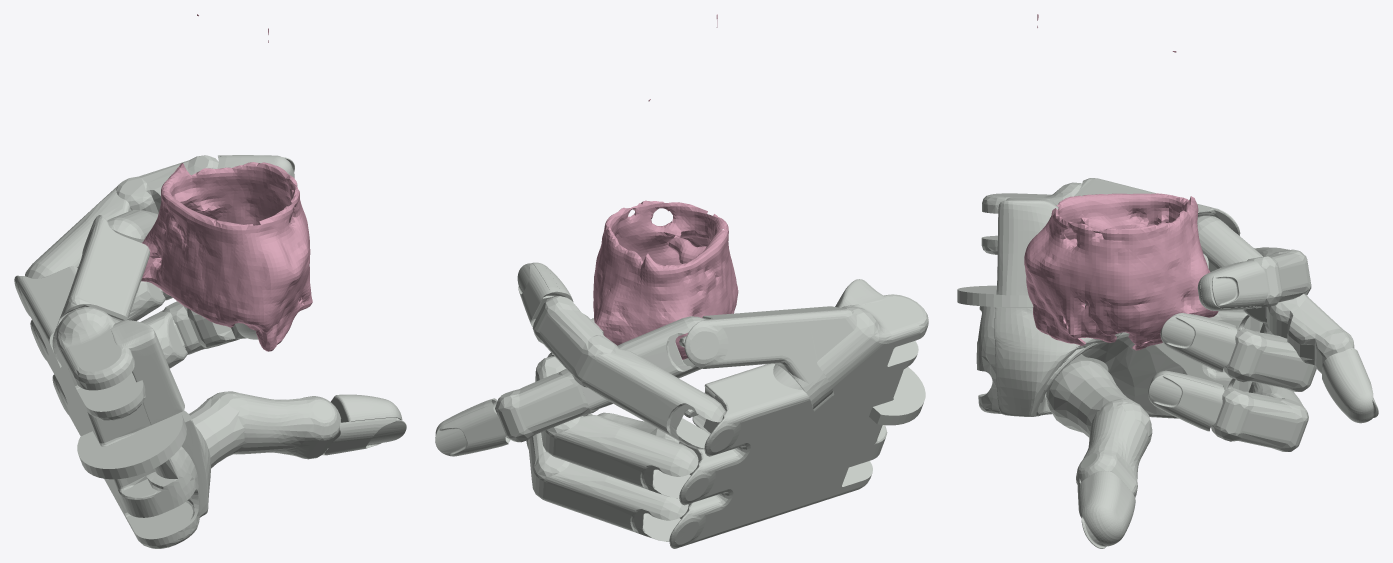
3 renders of one model, left to right at view 1: azimuth 30°, elevation 25°; view 2: azimuth 150°, elevation 25°; view 3: azimuth 270°, elevation 25°, orthographic. The views are drawn at different scales.
Visible parts, largest first — view 1: hand, world; view 2: hand, world; view 3: hand, world.
Boxes of the visible parts, x1,y1,x2,y2 form: hand: (14,155,406,548); world: (141,14,312,351); hand: (435,262,928,548); world: (593,14,738,359); hand: (957,178,1378,548); world: (1024,14,1218,350).
Size of the model in its own units: 0.1491 by 0.1849 by 0.1526.
